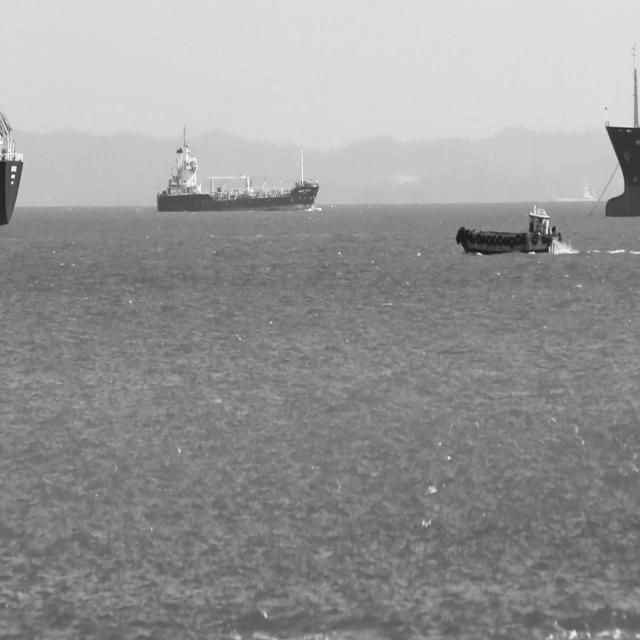ship: (154, 122, 320, 214), (603, 40, 639, 215), (456, 202, 564, 256), (0, 105, 23, 224)
